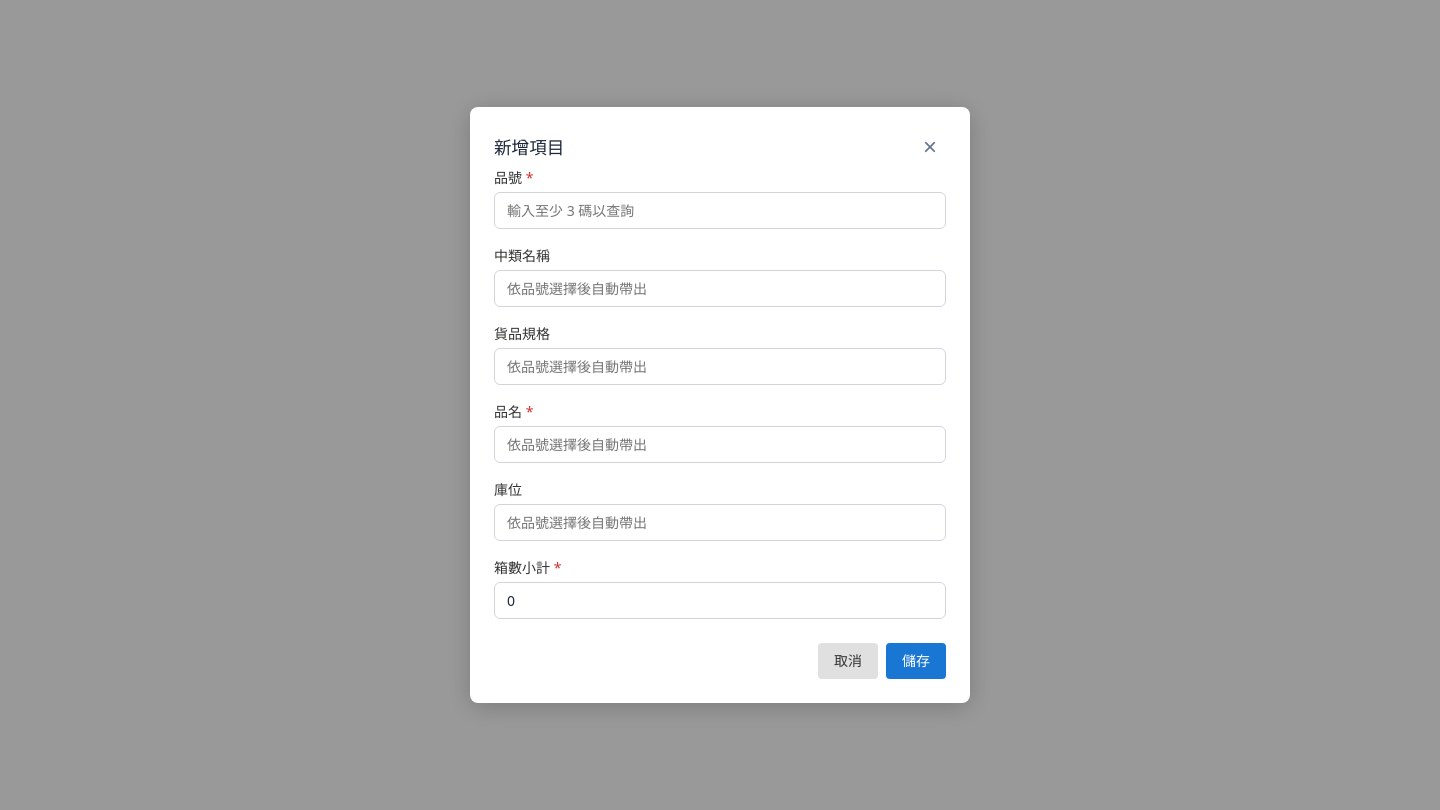
it: AddItemDialog › handles API error
Type "P001" into the field labelled "品號 *" at (720, 211), box [494,192,946,229]
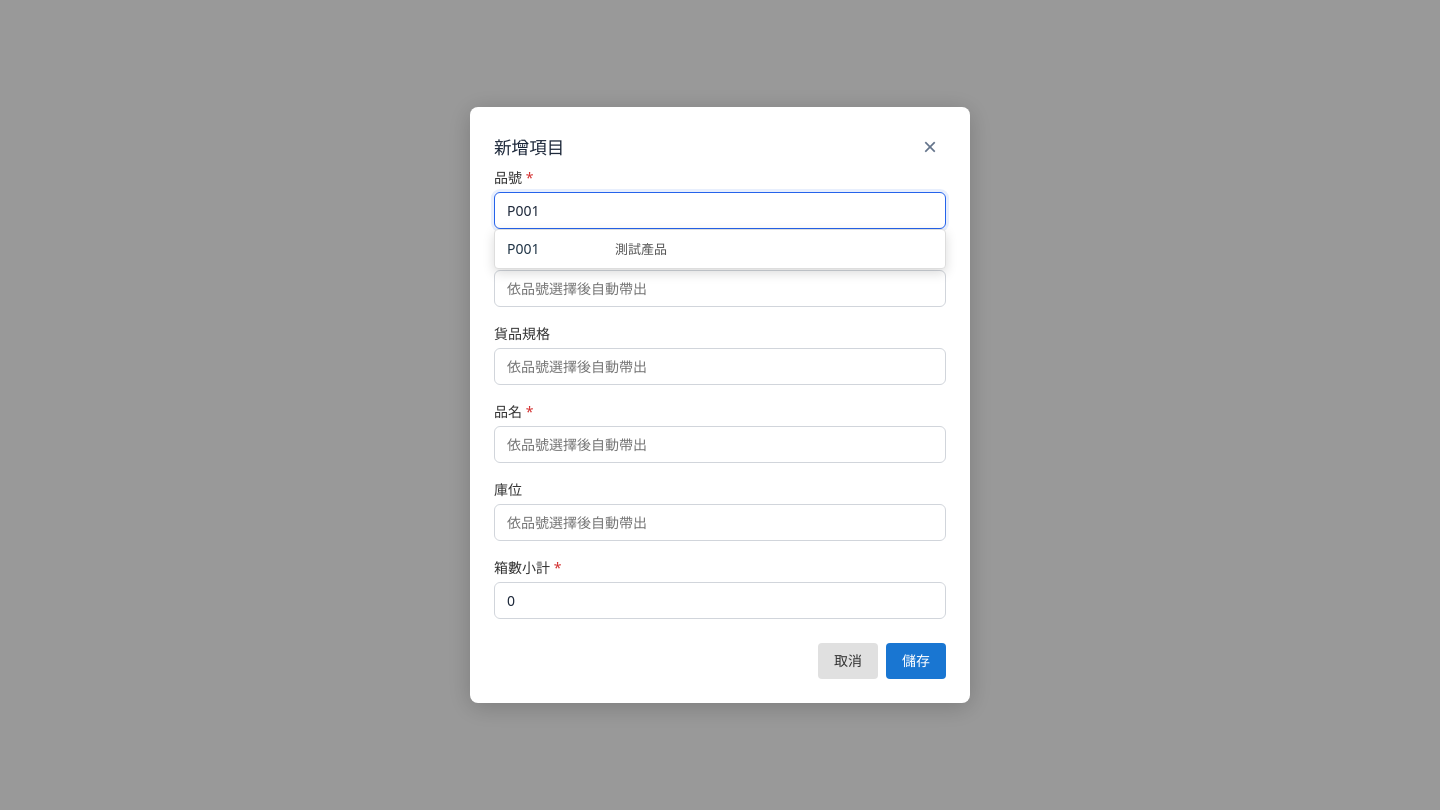
Check: the list item is shown
Click the list item at (523, 249), box [507,239,667,258]
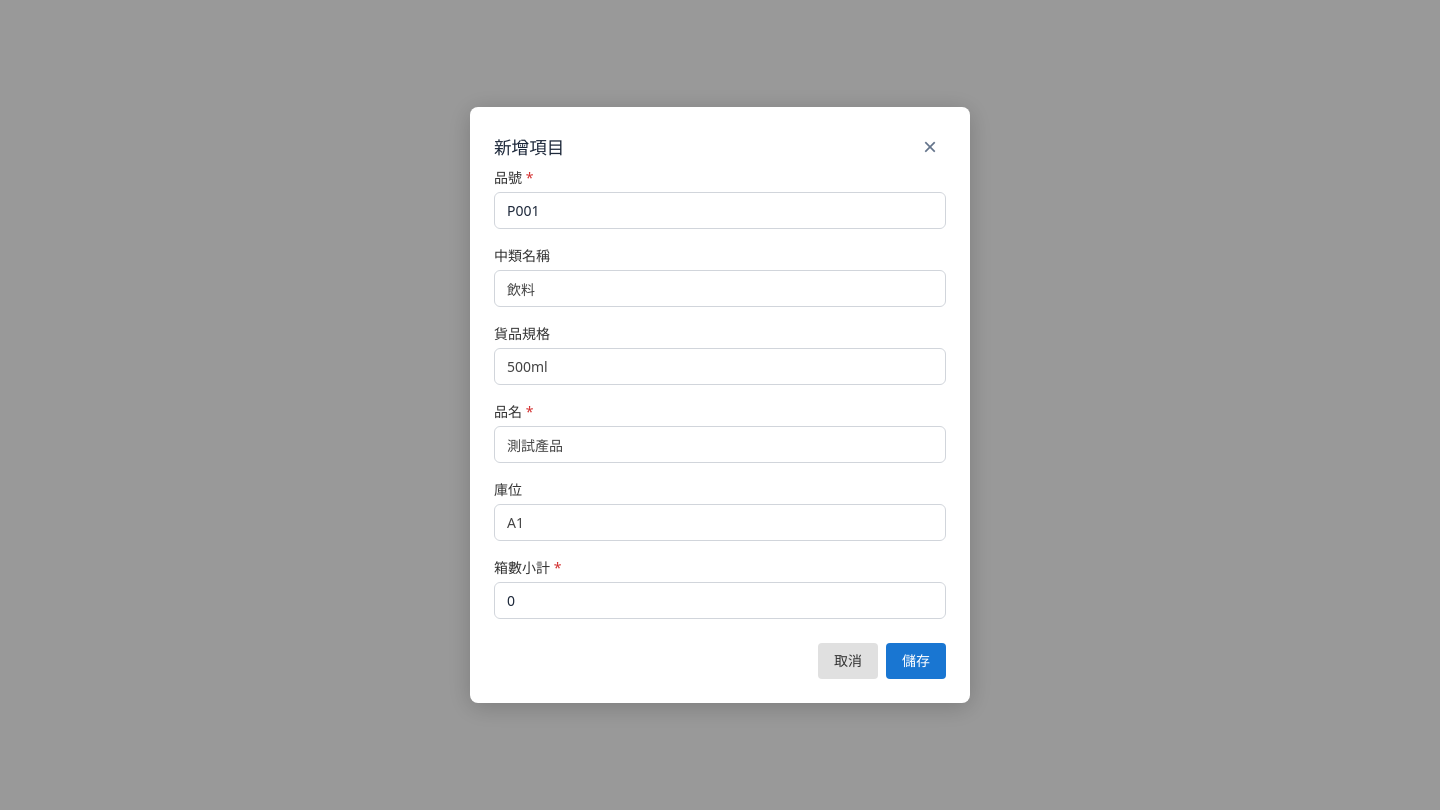
Replace the text in the number field labelled "箱數小計 *" with "100" at (720, 601), box [494,582,946,619]
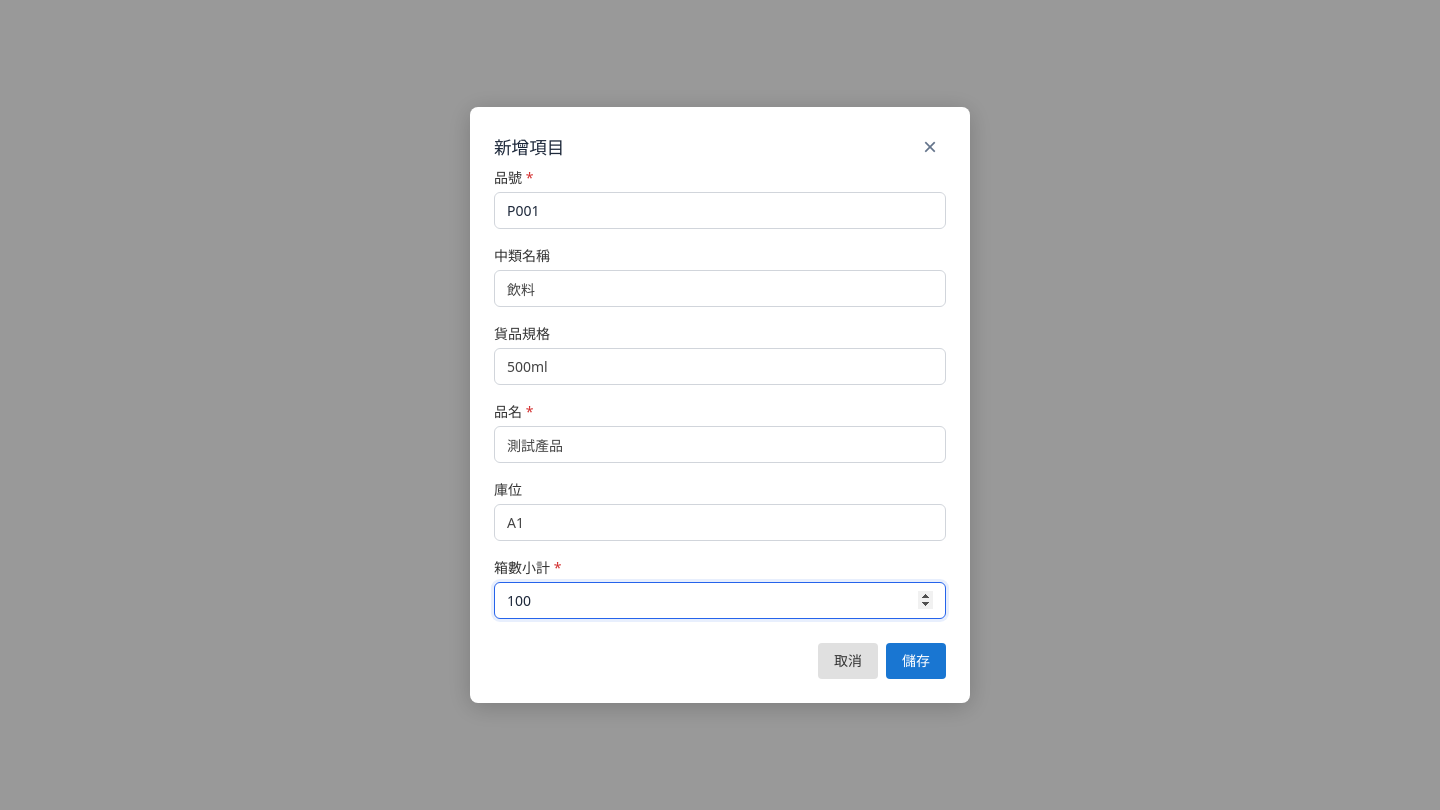
Click the button "儲存" at (916, 661), box [886,643,946,679]
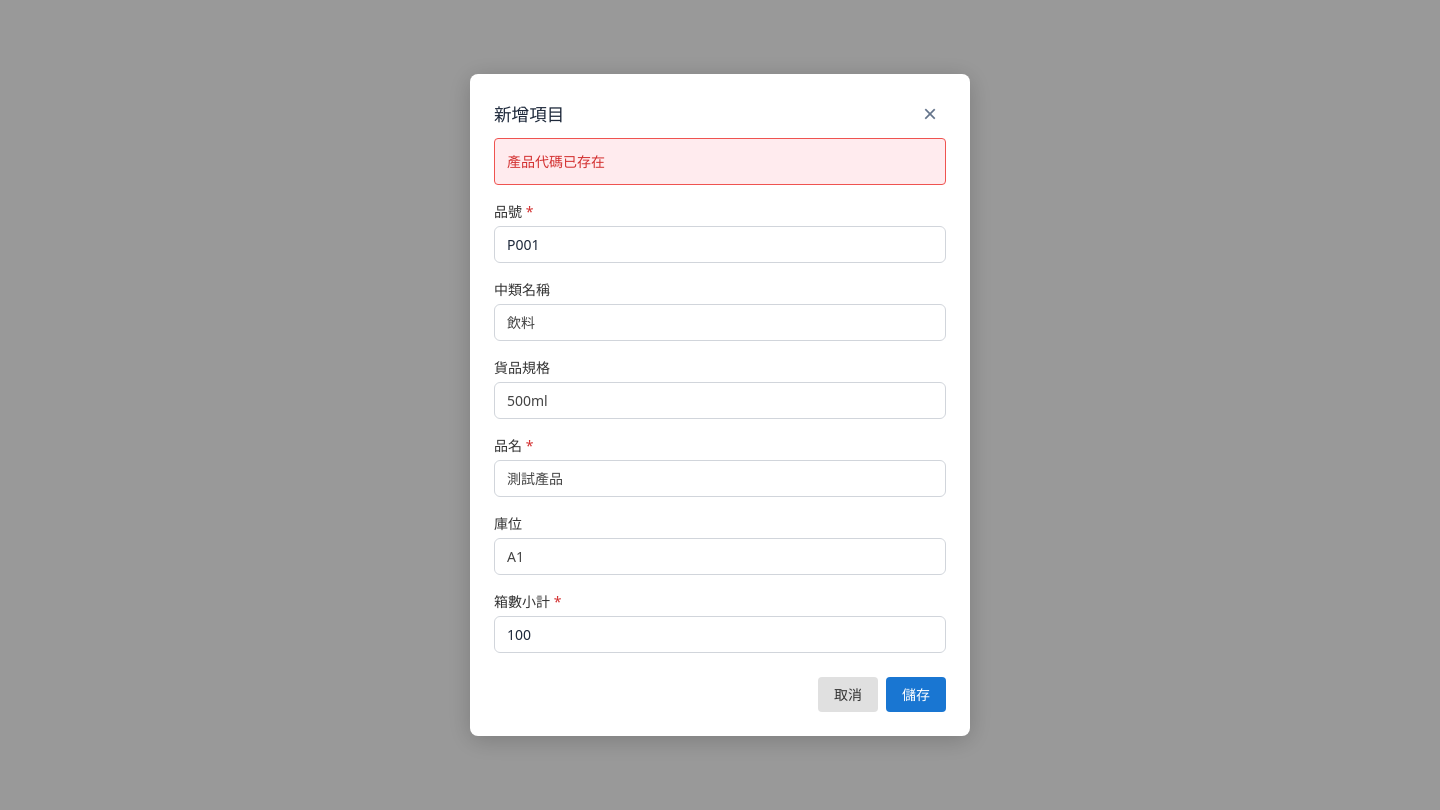
Check: the text "產品代碼已存在" is shown, box [494,138,946,185]
